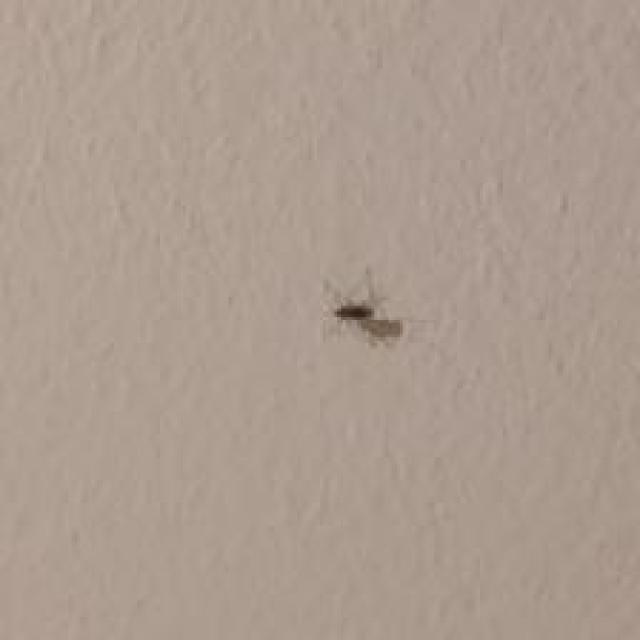Culex: (327, 264, 407, 347)
